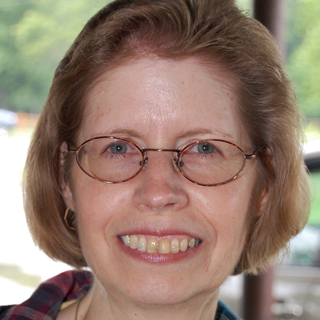eye: (185, 139, 228, 162), (96, 140, 140, 162)
